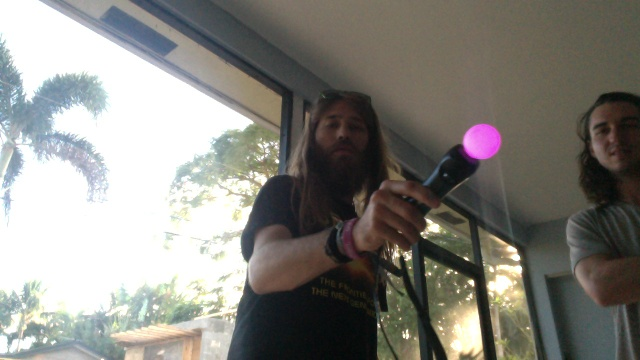wand: (464, 125, 501, 158)
